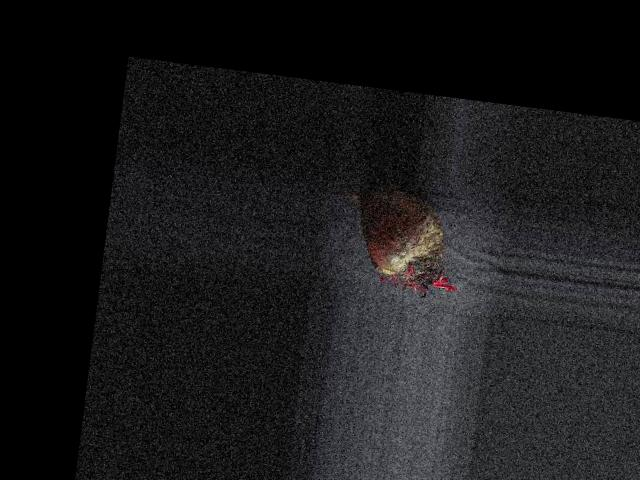beet: (333, 183, 468, 302)
